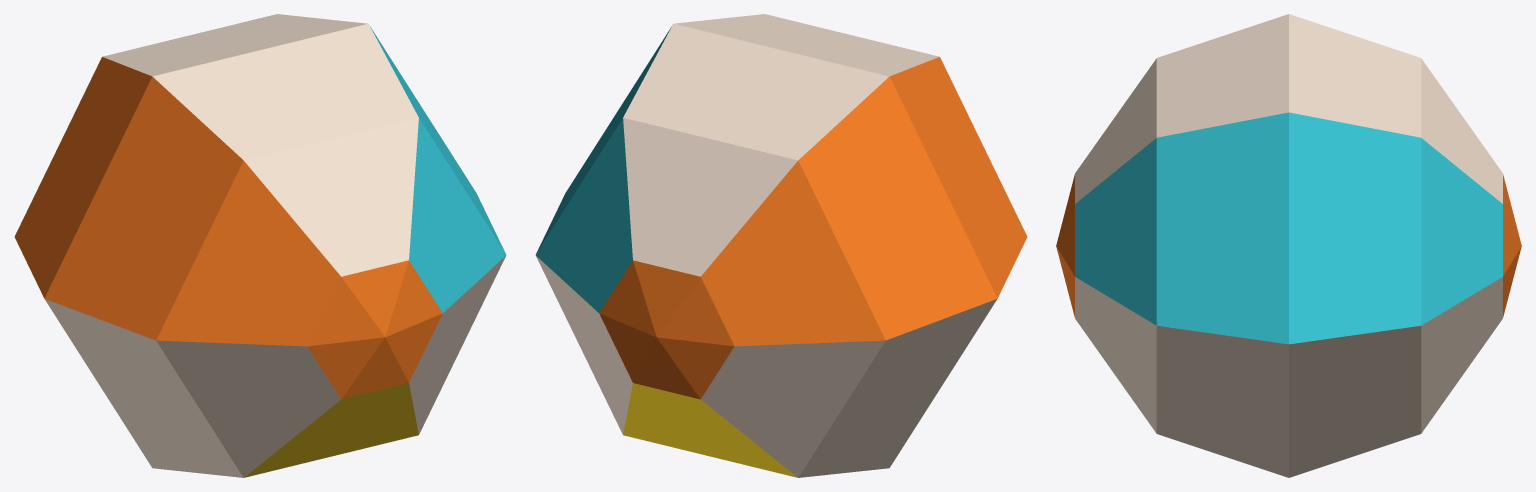
File: beach_ball-beach.fbx
The picture shows the model from 3 angles, left to right: view 1: azimuth 30°, elevation 25°; view 2: azimuth 150°, elevation 25°; view 3: azimuth 270°, elevation 25°; orthographic projection. The views are drawn at different scales.
Parts seen in each view (by area): view 1: beach_ball_beach; view 2: beach_ball_beach; view 3: beach_ball_beach.
Part boxes in pixels (x1,y1,x2,y2): beach_ball_beach: [14, 14, 506, 477]; beach_ball_beach: [535, 14, 1027, 477]; beach_ball_beach: [1056, 14, 1521, 477].
Bounding box in the file's own units: 200 × 173 × 200.
